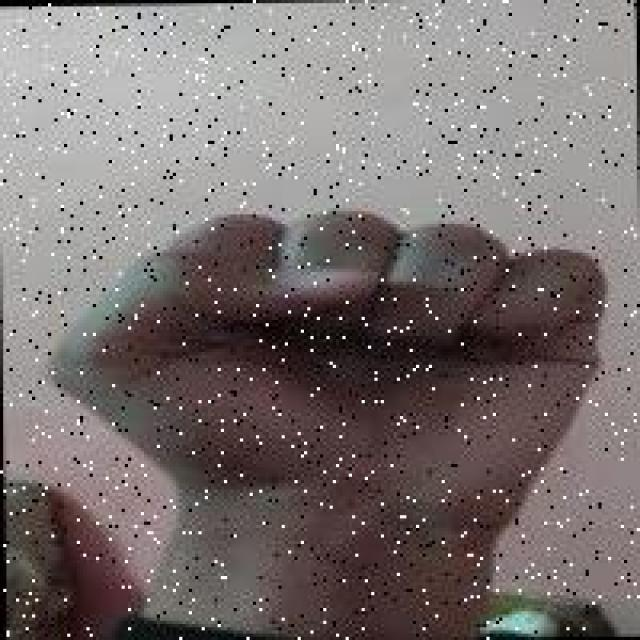S: (32, 194, 614, 536)
